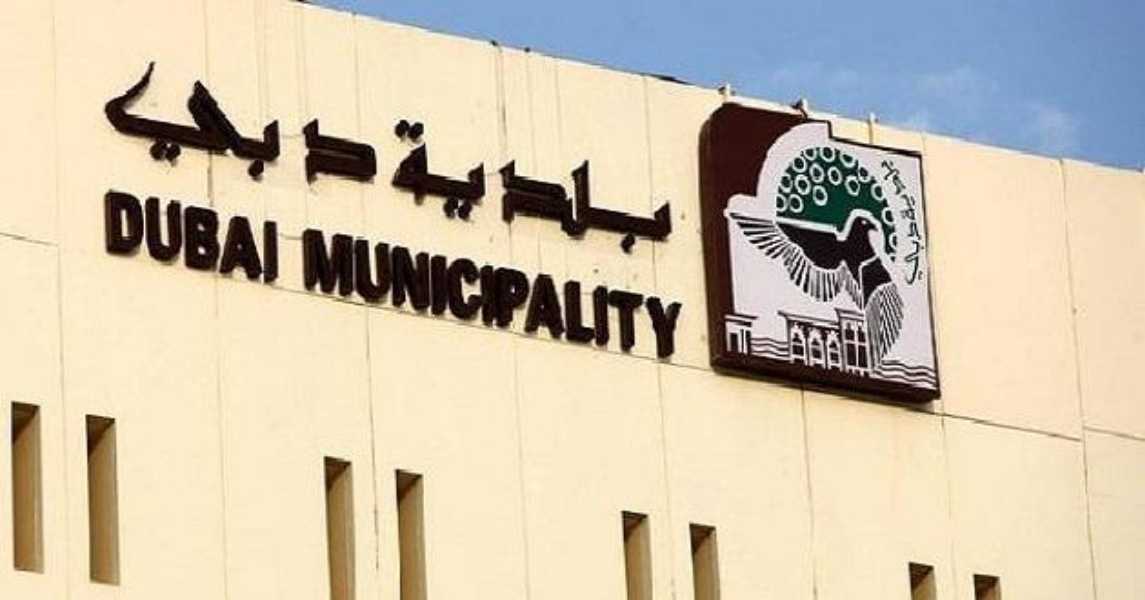text: (113, 46, 128, 204), (129, 46, 144, 204), (145, 46, 160, 204), (161, 46, 176, 204), (177, 46, 192, 204), (193, 46, 208, 204), (209, 46, 224, 204), (225, 46, 240, 204), (241, 46, 256, 204), (257, 46, 272, 204), (273, 46, 288, 204), (289, 46, 304, 204), (305, 46, 320, 204), (321, 46, 336, 204), (337, 46, 352, 204), (353, 46, 368, 204), (401, 117, 416, 264), (417, 117, 432, 264), (433, 117, 448, 264), (449, 117, 464, 264), (465, 117, 480, 264), (481, 117, 496, 264), (497, 117, 512, 264), (513, 117, 528, 264), (529, 117, 544, 264), (545, 117, 560, 264), (561, 117, 576, 264), (577, 117, 592, 264), (593, 117, 608, 264), (609, 117, 624, 264), (625, 117, 640, 264), (641, 117, 656, 264), (657, 117, 672, 264), (305, 228, 320, 361), (321, 228, 336, 361), (337, 228, 352, 361), (353, 228, 368, 361), (369, 228, 384, 361), (385, 228, 400, 361), (401, 228, 416, 361), (417, 228, 432, 361), (433, 228, 448, 361), (449, 228, 464, 361), (465, 228, 480, 361), (481, 228, 496, 361), (497, 228, 512, 361), (513, 228, 528, 361), (529, 228, 544, 361), (545, 228, 560, 361), (561, 228, 576, 361), (577, 228, 592, 361), (593, 228, 608, 361), (609, 228, 624, 361), (625, 228, 640, 361), (641, 228, 656, 361), (657, 228, 672, 361), (102, 46, 112, 204), (369, 46, 379, 204), (113, 188, 128, 288), (129, 188, 144, 288), (145, 188, 160, 288), (161, 188, 176, 288), (177, 188, 192, 288), (193, 188, 208, 288), (209, 188, 224, 288), (225, 188, 240, 288), (241, 188, 256, 288), (257, 188, 272, 288), (673, 228, 684, 361), (881, 155, 896, 224), (897, 155, 912, 224), (913, 217, 927, 290), (395, 117, 400, 264), (673, 117, 678, 264), (902, 217, 912, 290), (273, 188, 280, 288), (913, 155, 922, 224), (106, 188, 112, 288), (873, 155, 880, 224)
